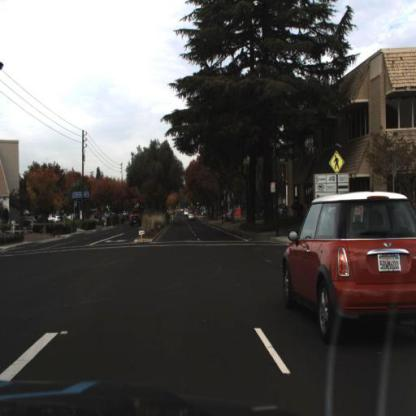car: (284, 192, 416, 345), (129, 207, 144, 228), (189, 212, 198, 222)
